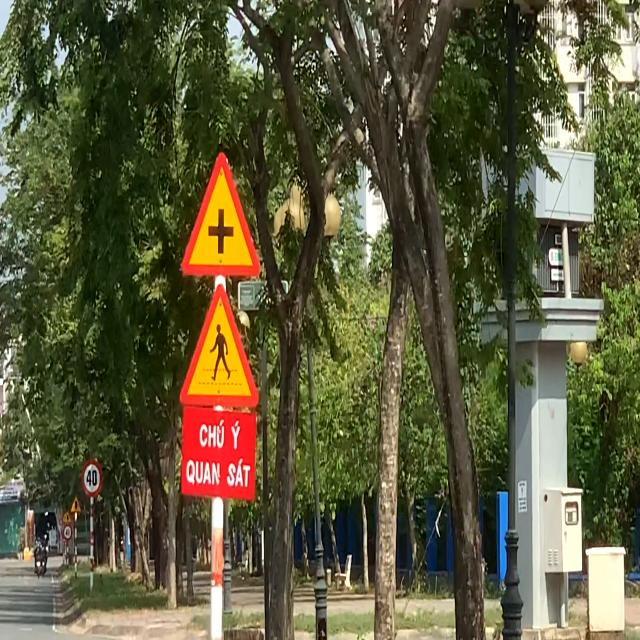P.127: (81, 459, 102, 498), (64, 524, 72, 540)
W.205a: (180, 152, 260, 278)
W.224: (178, 283, 260, 410)
